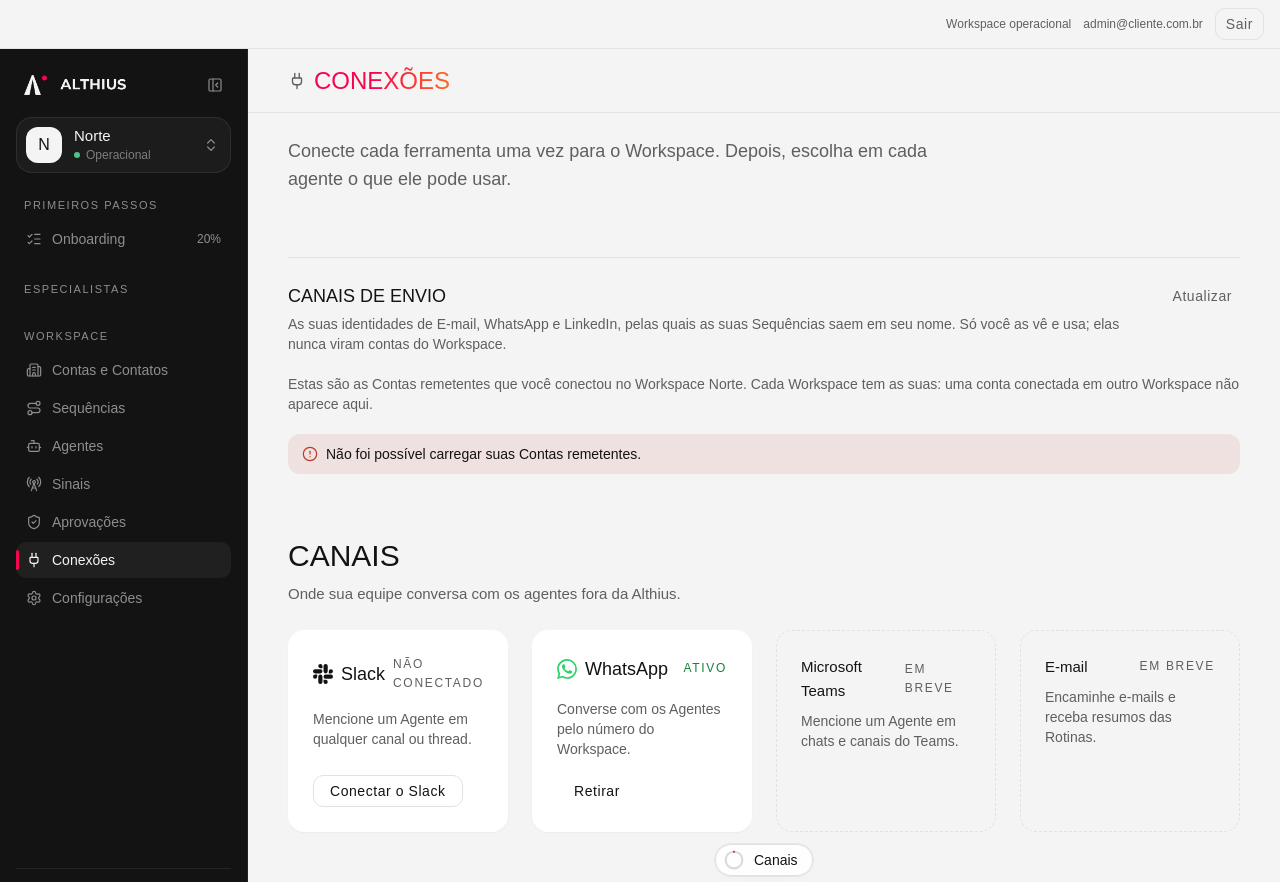
Test case: Canal WhatsApp em Conexões › permite retirar um Canal ativo quando o adaptador não está configurado
This screenshot has width=1280, height=882.
Check: the text "Ativo" is shown, box [684, 659, 727, 679]
Click the button "Retirar" at (597, 791), box [557, 775, 637, 807]
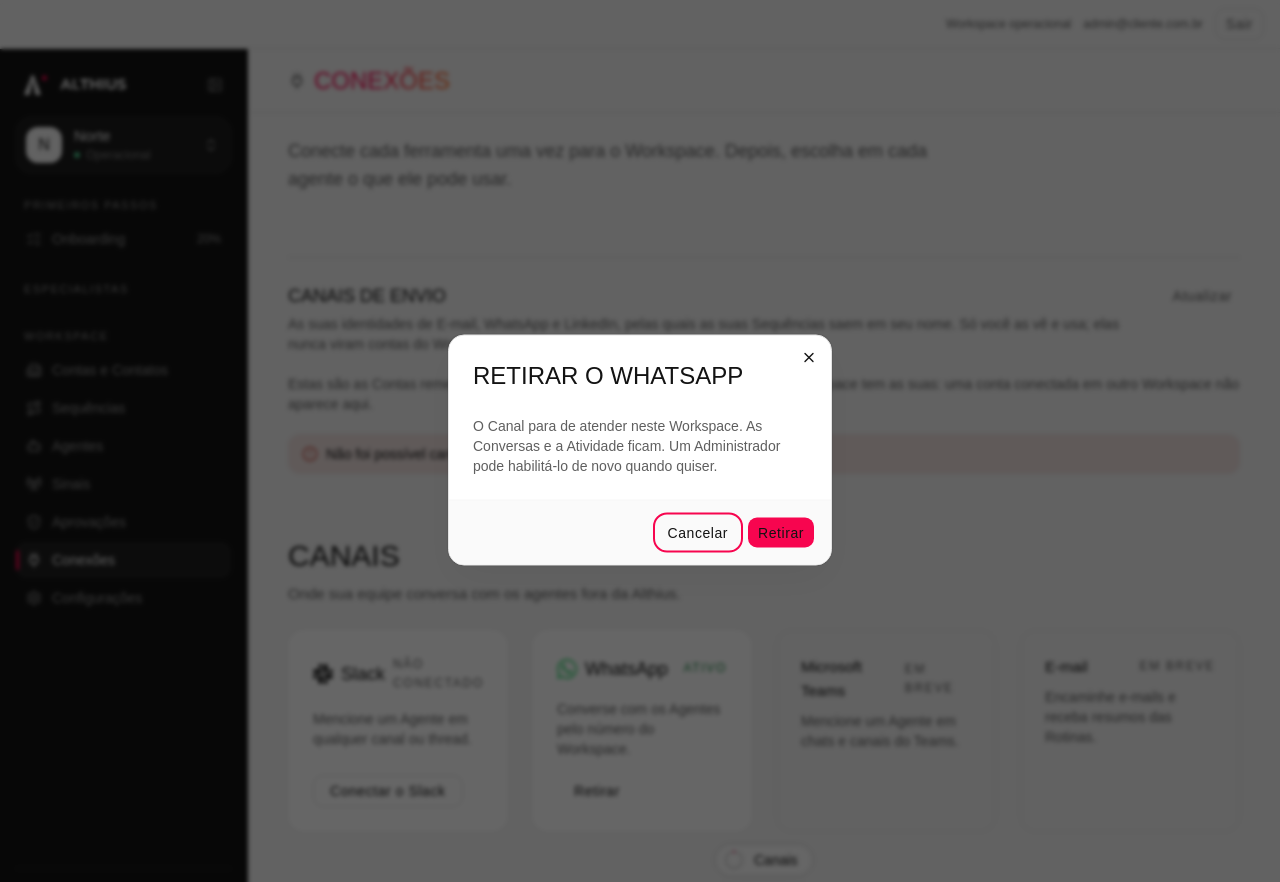
Click the button "Retirar" at (781, 532), box [747, 516, 815, 548]
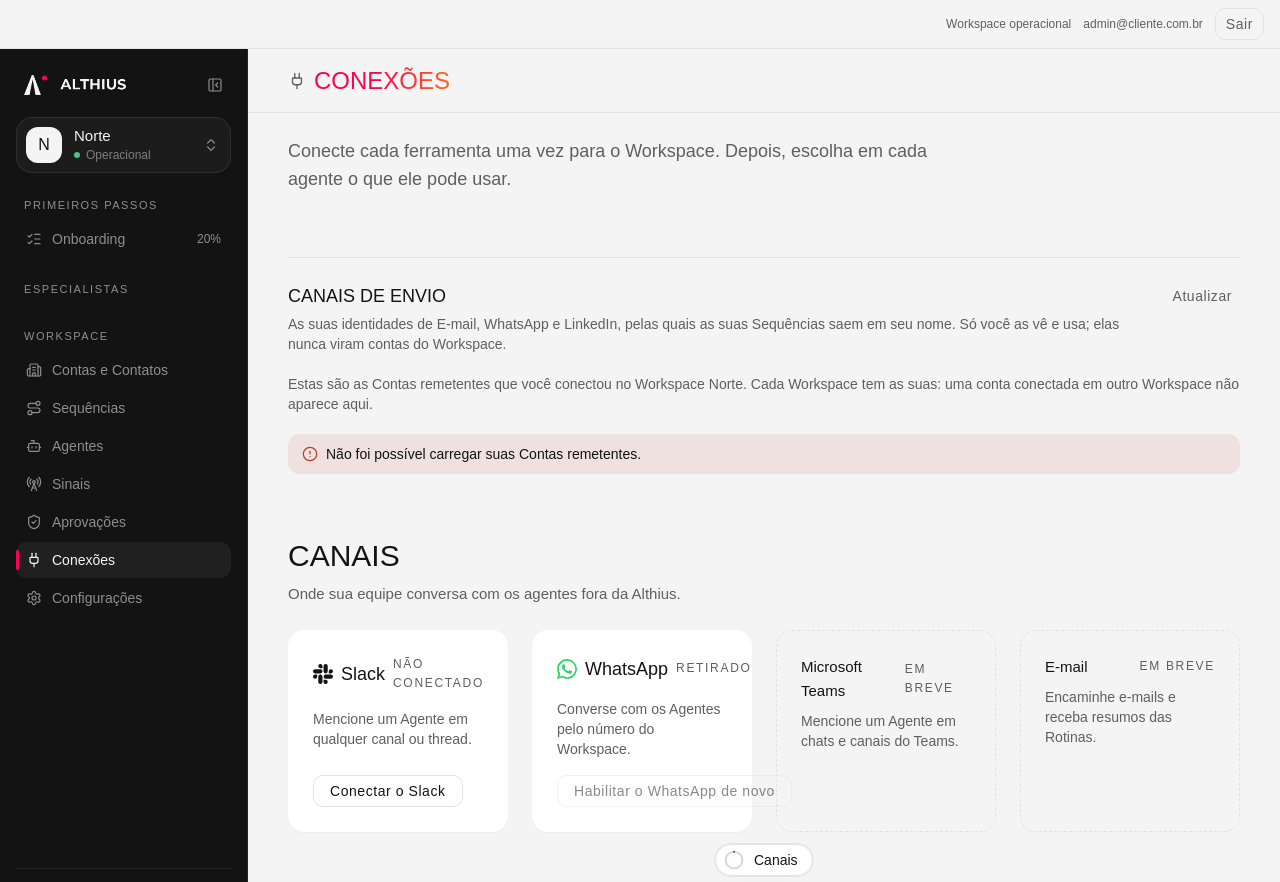
Check: the text "Retirado" is shown, box [676, 659, 752, 679]
